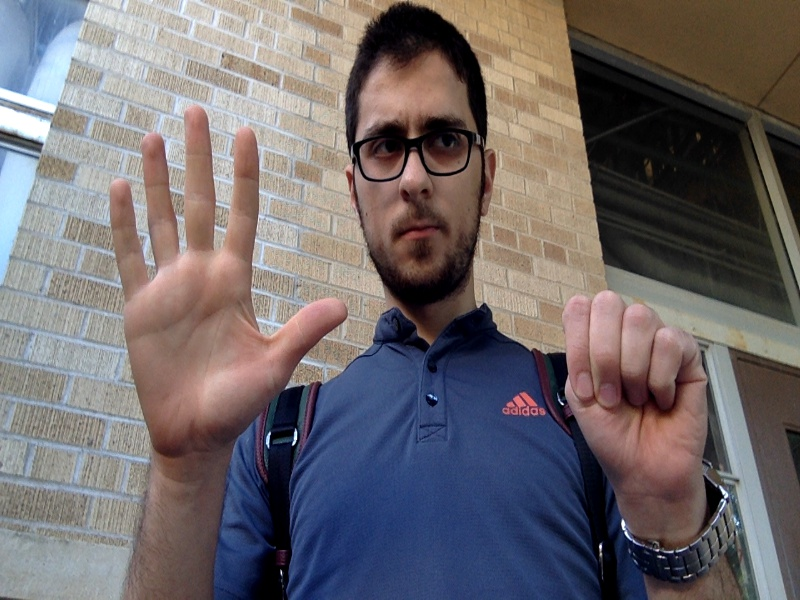0-hand: (563, 290, 707, 488)
5-hand: (109, 106, 345, 461)
